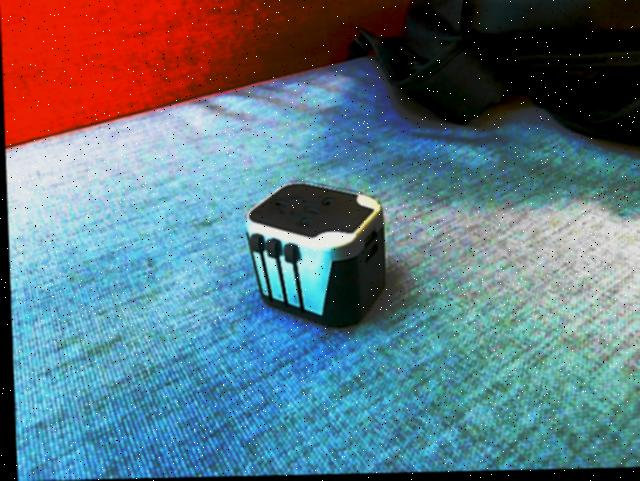adapter: (241, 181, 386, 330)
